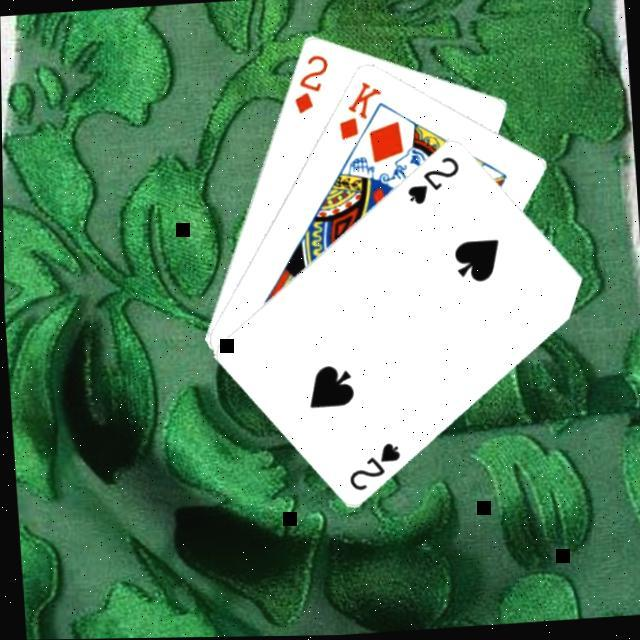2D: (286, 53, 332, 120)
2S: (399, 154, 463, 211), (340, 441, 404, 498)
KD: (330, 80, 385, 147)
